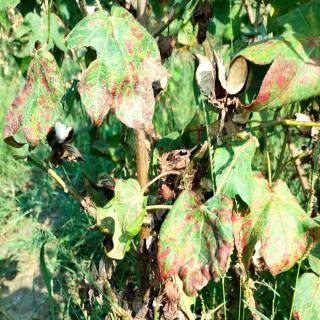blight: (159, 159, 308, 301), (64, 4, 186, 127), (229, 21, 320, 142), (3, 39, 73, 164)
